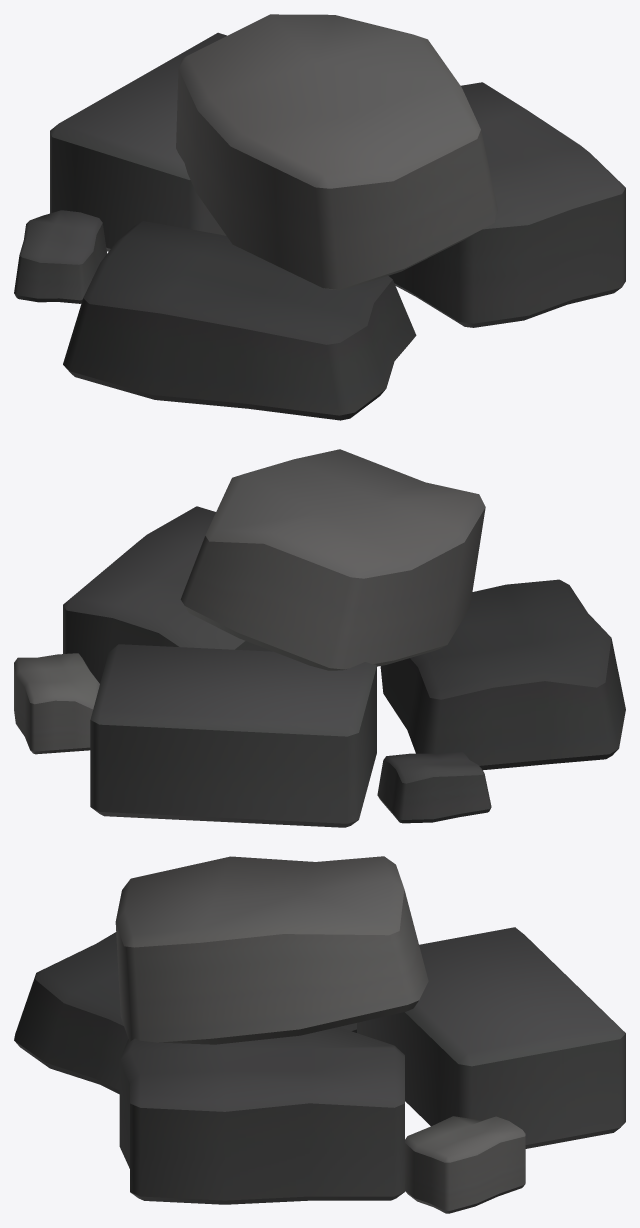
The model's file is StoneBlocks_2.glb.
3 views of the same model, one above another, from view 1: azimuth 30°, elevation 25°; view 2: azimuth 150°, elevation 25°; view 3: azimuth 270°, elevation 25° (orthographic). The views are drawn at different scales.
Visible parts, largest first — view 1: StoneBlocks_2; view 2: StoneBlocks_2; view 3: StoneBlocks_2.
Boxes of the visible parts, x1=… form: StoneBlocks_2: x1=14, y1=14, x2=625, y2=420; StoneBlocks_2: x1=14, y1=449, x2=625, y2=827; StoneBlocks_2: x1=14, y1=856, x2=625, y2=1213.
Size of the model in its own units: 0.8758 by 0.3659 by 0.9187.
1 material, 1 textured.
